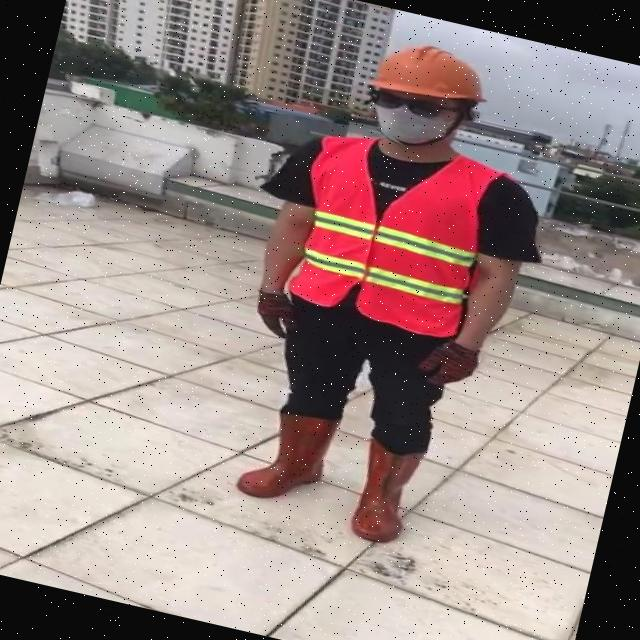boots: (235, 402, 337, 510), (344, 434, 424, 548)
